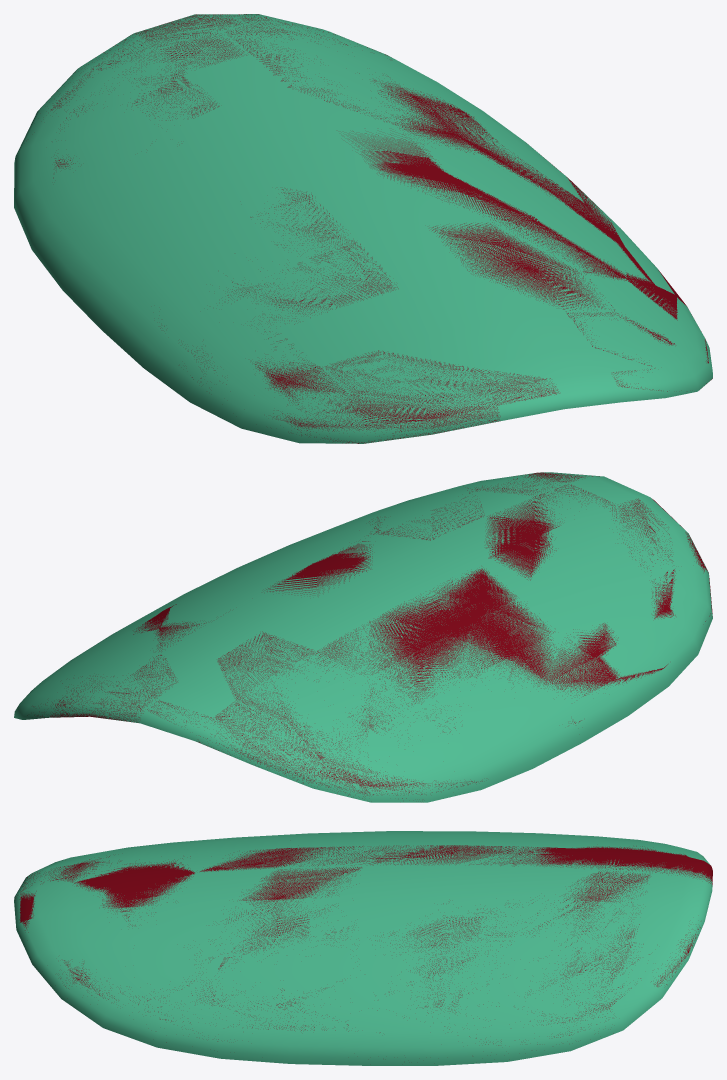
Rendered from ex12green.glb.
The picture shows the model from 3 angles, top to bottom: view 1: azimuth 30°, elevation 25°; view 2: azimuth 150°, elevation 25°; view 3: azimuth 270°, elevation 25°; orthographic projection. The views are drawn at different scales.
Visible parts, largest first — view 1: nail.001, nail; view 2: nail.001, nail; view 3: nail.001, nail.
Part boxes in pixels (bbox=[...]): nail.001: bbox=[14, 14, 712, 443]; nail: bbox=[51, 14, 712, 443]; nail.001: bbox=[14, 472, 712, 802]; nail: bbox=[27, 472, 712, 798]; nail.001: bbox=[14, 831, 712, 1065]; nail: bbox=[15, 845, 712, 1045].
Bounding box in the file's own units: 0.9089 × 0.2412 × 1.36.
